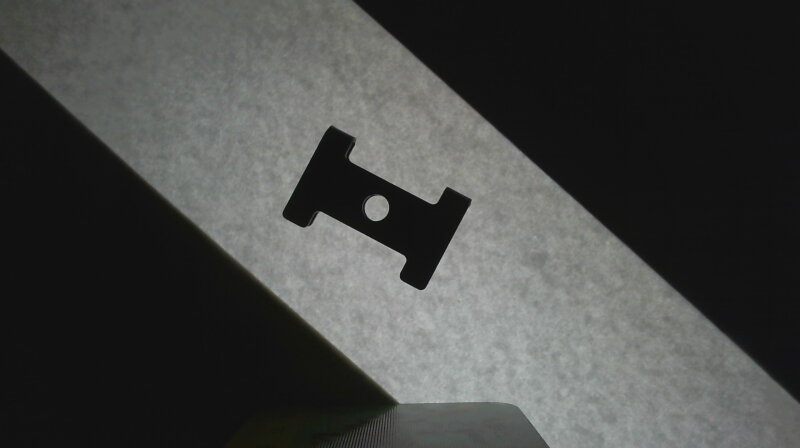O002: (279, 123, 473, 293)
